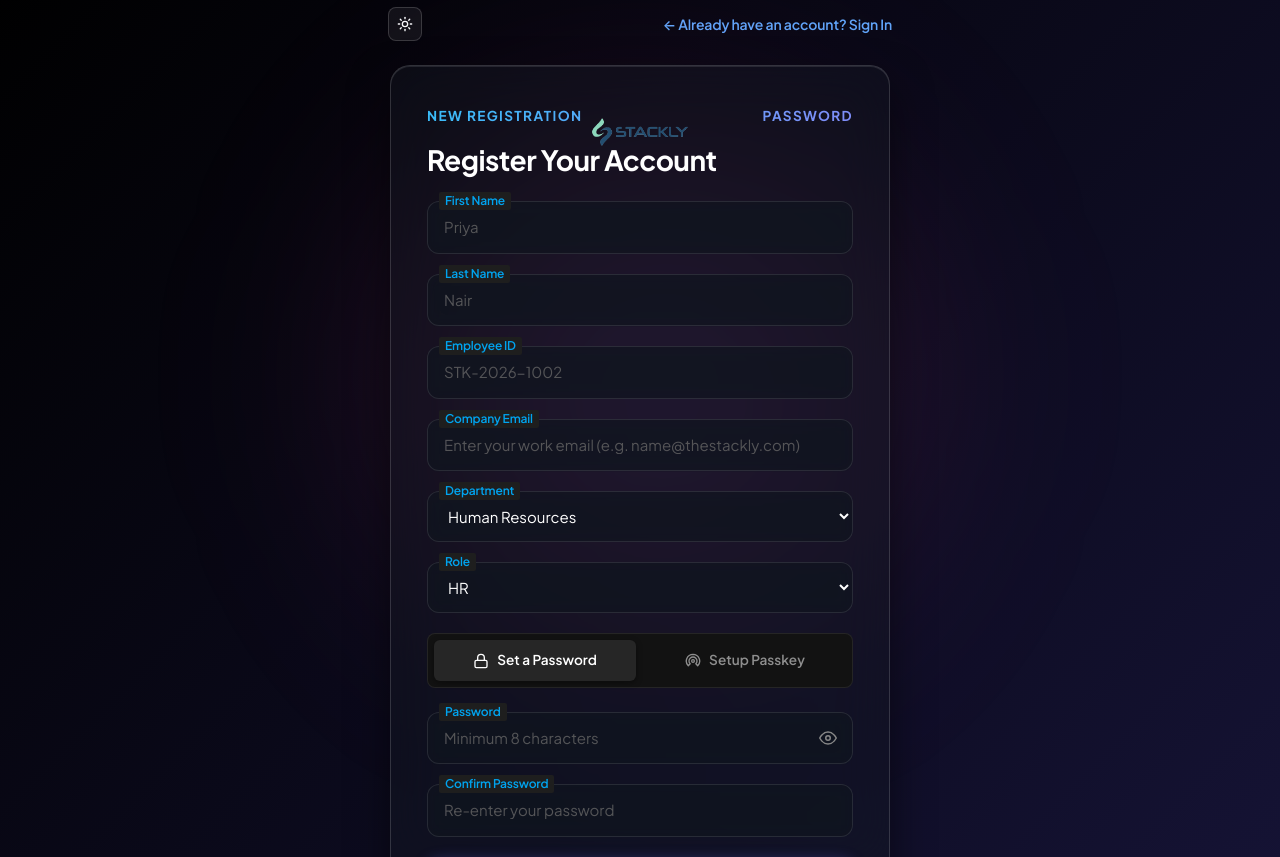
Step 3: SignUpPage Component Unit Tests › 3.5 should validate password and confirm password mismatch
Type "Jane" into the field labelled "First Name". click: (640, 228)
box: x1=427 y1=201 x2=853 y2=254
Type "Doe" into the field labelled "Last Name". click: (640, 300)
box: x1=427 y1=274 x2=853 y2=326
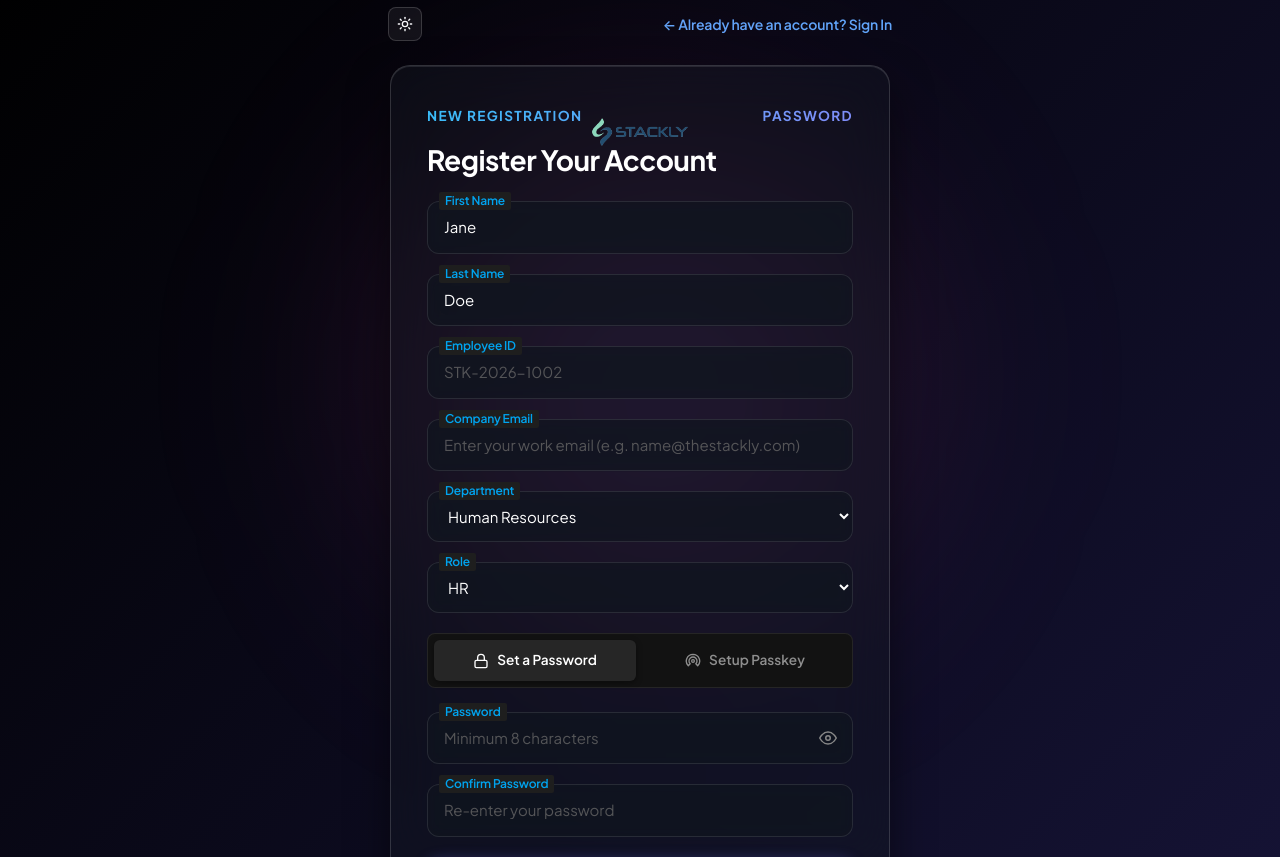
Type "STK-2026-1001" into the field labelled "Employee ID". click: (640, 373)
box: x1=427 y1=346 x2=853 y2=399
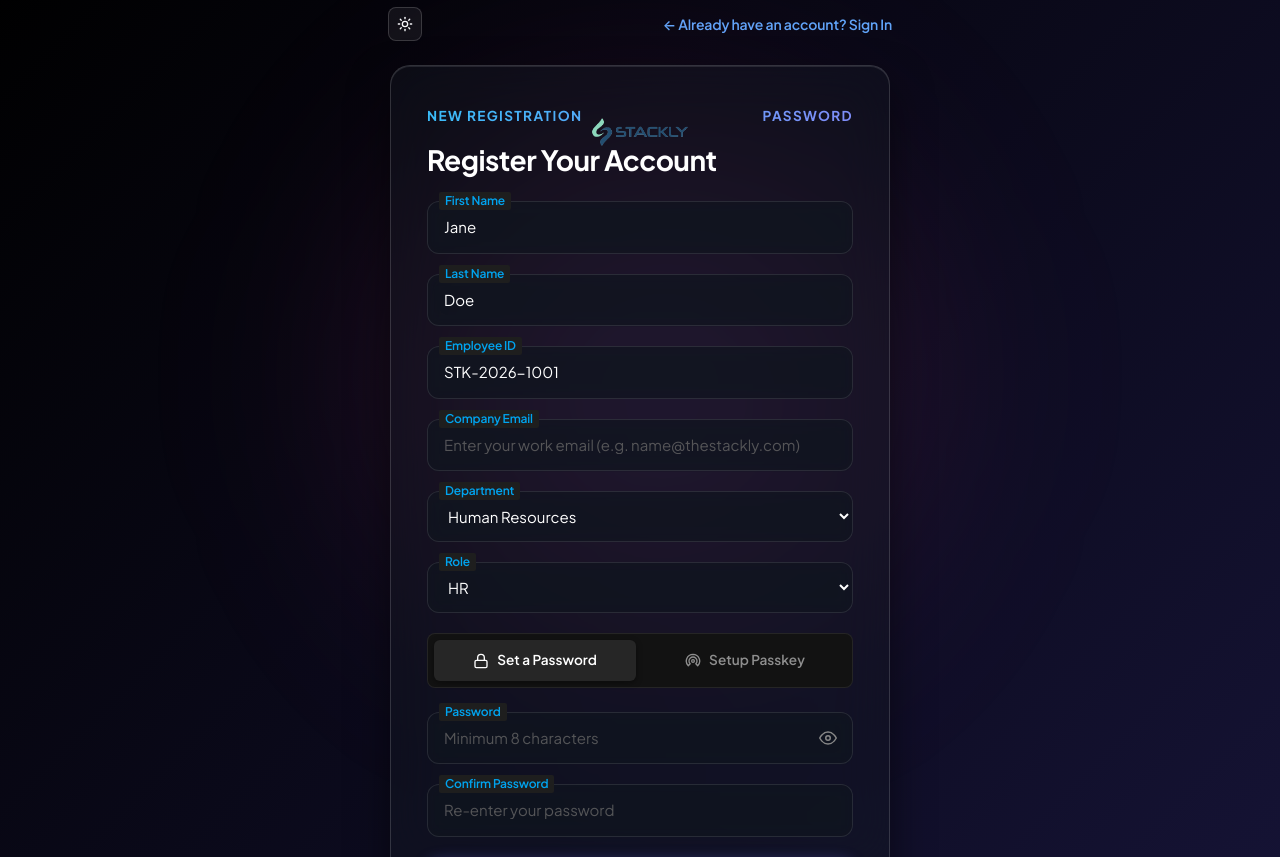
Type "jane@thestackly.com" into the field labelled "Company Email". click: (640, 445)
box: x1=427 y1=419 x2=853 y2=471
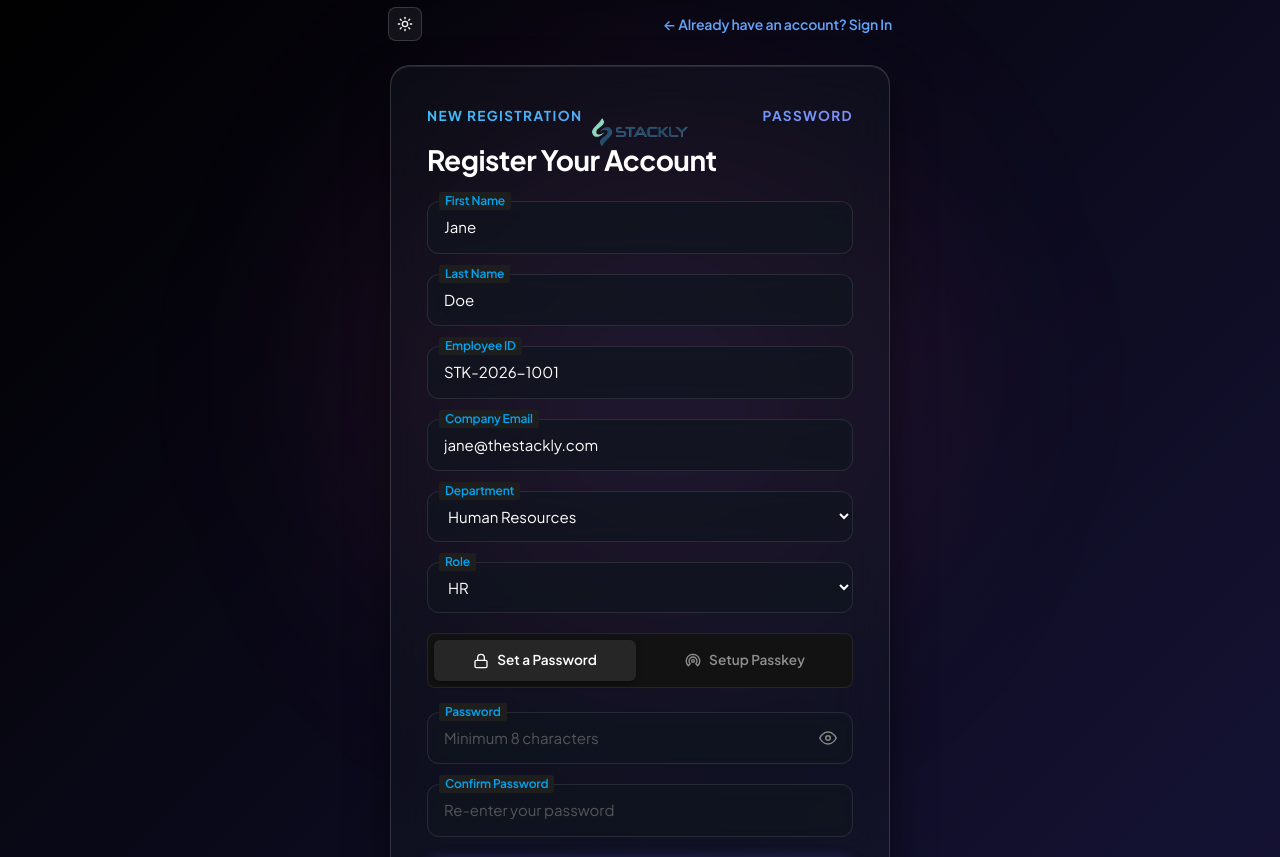
Type "Password123!" into the password field labelled "Password". click: (640, 738)
box: x1=427 y1=712 x2=853 y2=764
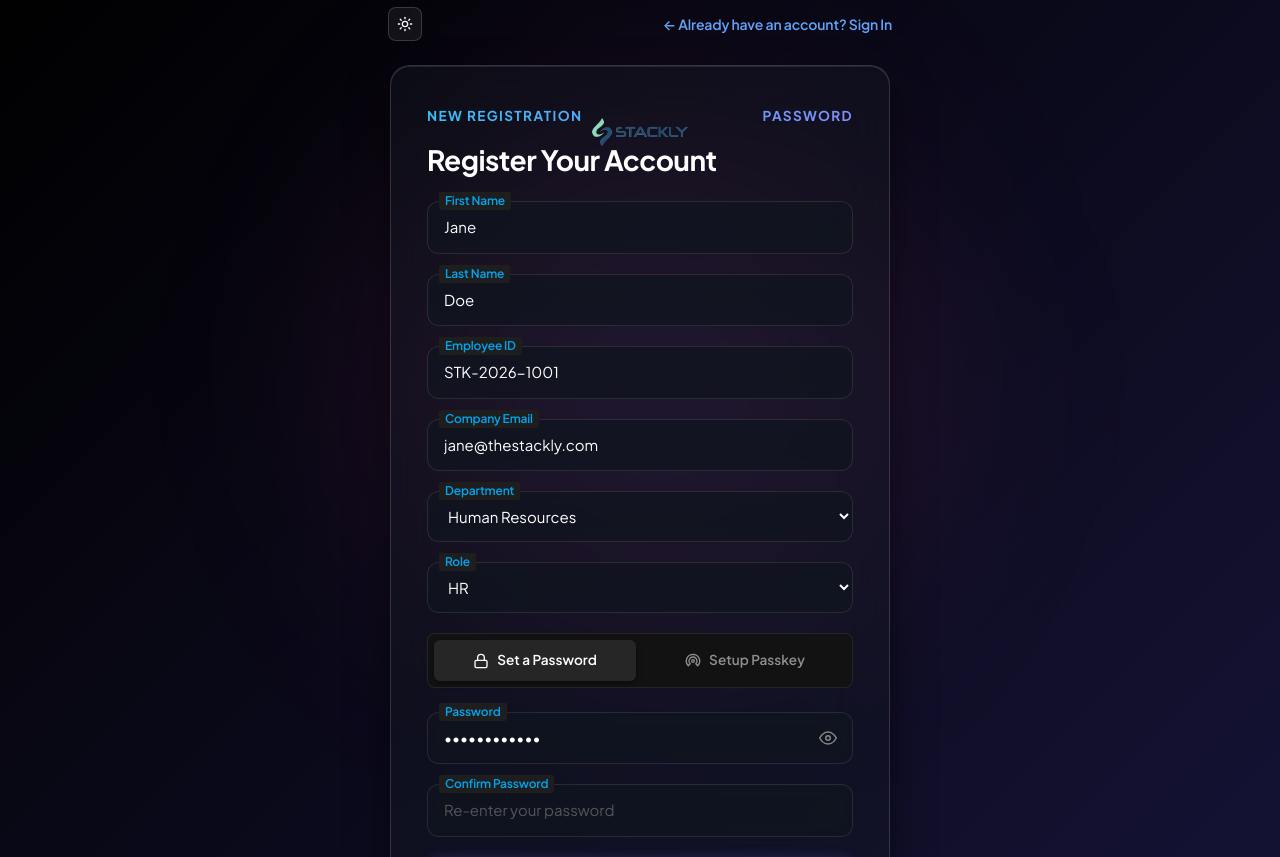
Type "DifferentPassword123!" into the password field labelled "Confirm Password". click: (640, 811)
box: x1=427 y1=784 x2=853 y2=837
(page scrolled)
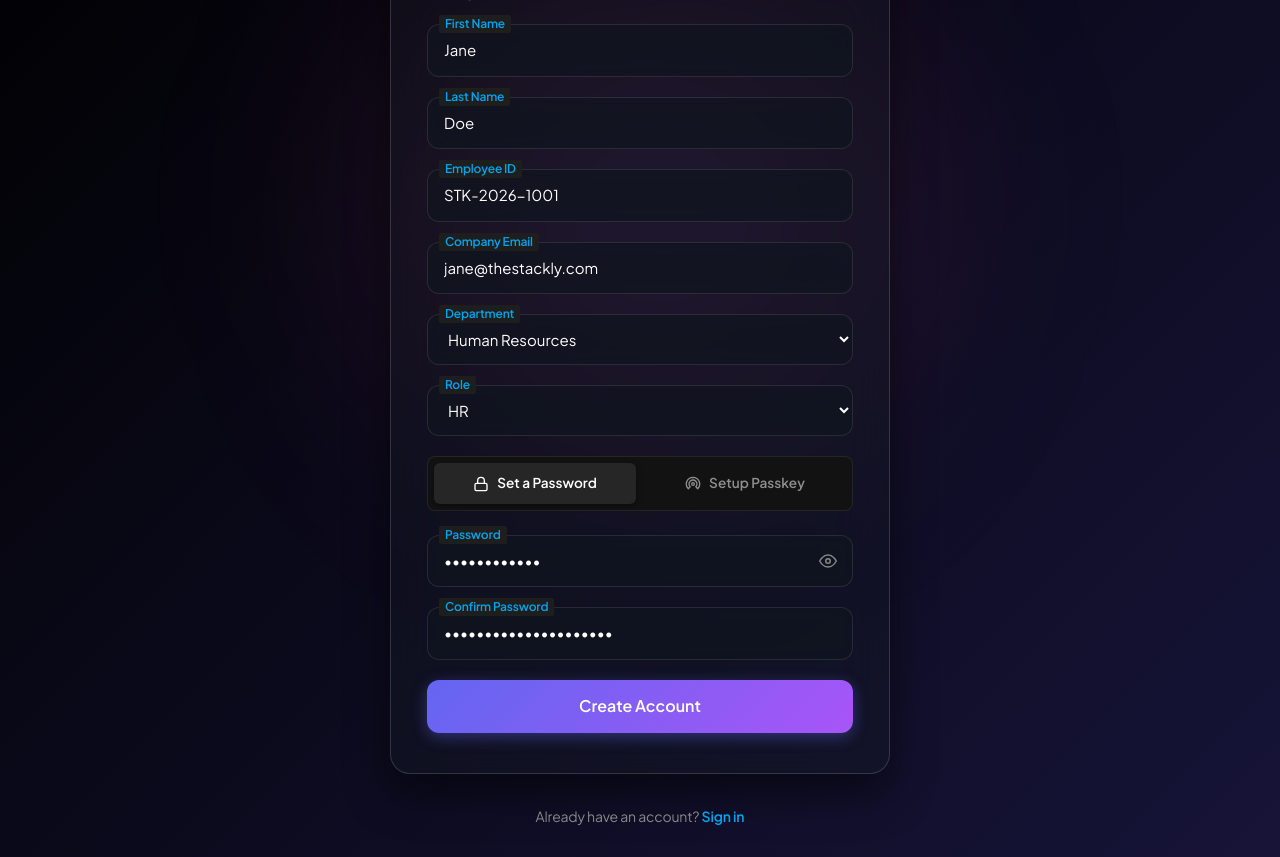
Click the button "Create Account". click: (640, 706)
box: x1=427 y1=680 x2=853 y2=733
(page scrolled)
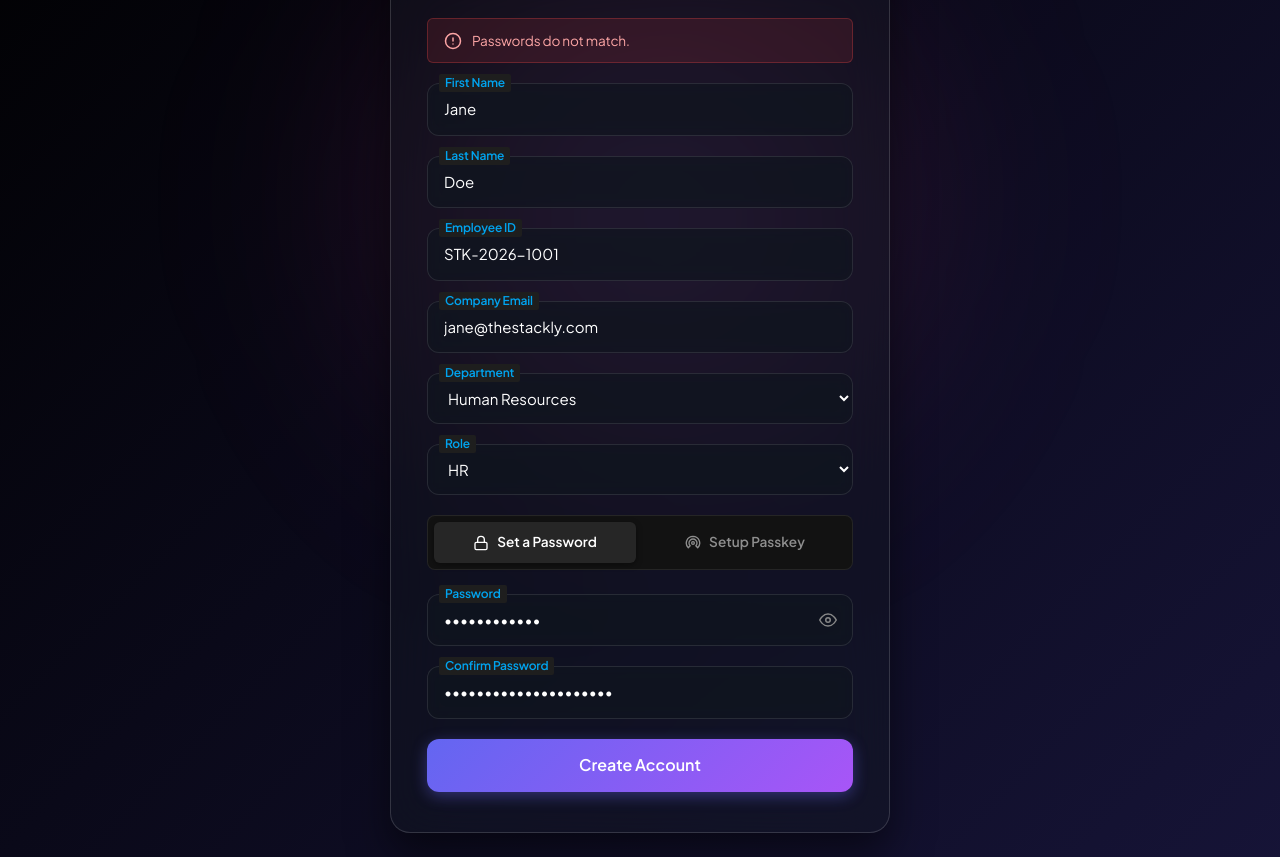
Expected: the text "Passwords do not match." is shown, x1=472 y1=31 x2=630 y2=50
